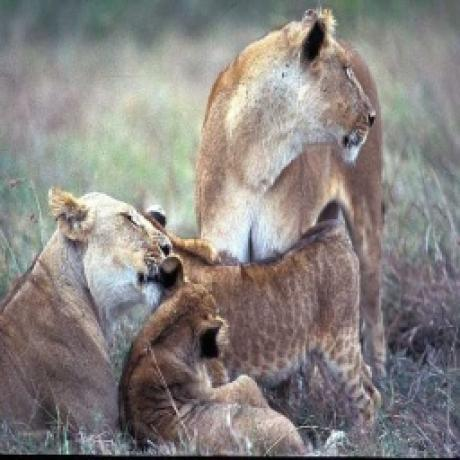Lion: (193, 3, 390, 256), (0, 189, 176, 443), (117, 256, 302, 460)
